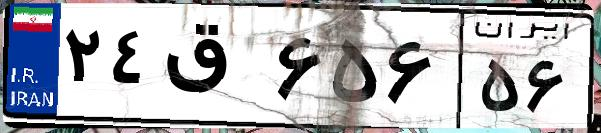2: (57, 26, 110, 100)
4: (110, 28, 158, 98)
5: (330, 28, 385, 110), (475, 38, 525, 113)
6: (270, 28, 330, 110), (385, 28, 445, 110), (525, 38, 570, 115)
ق: (158, 20, 270, 120)
